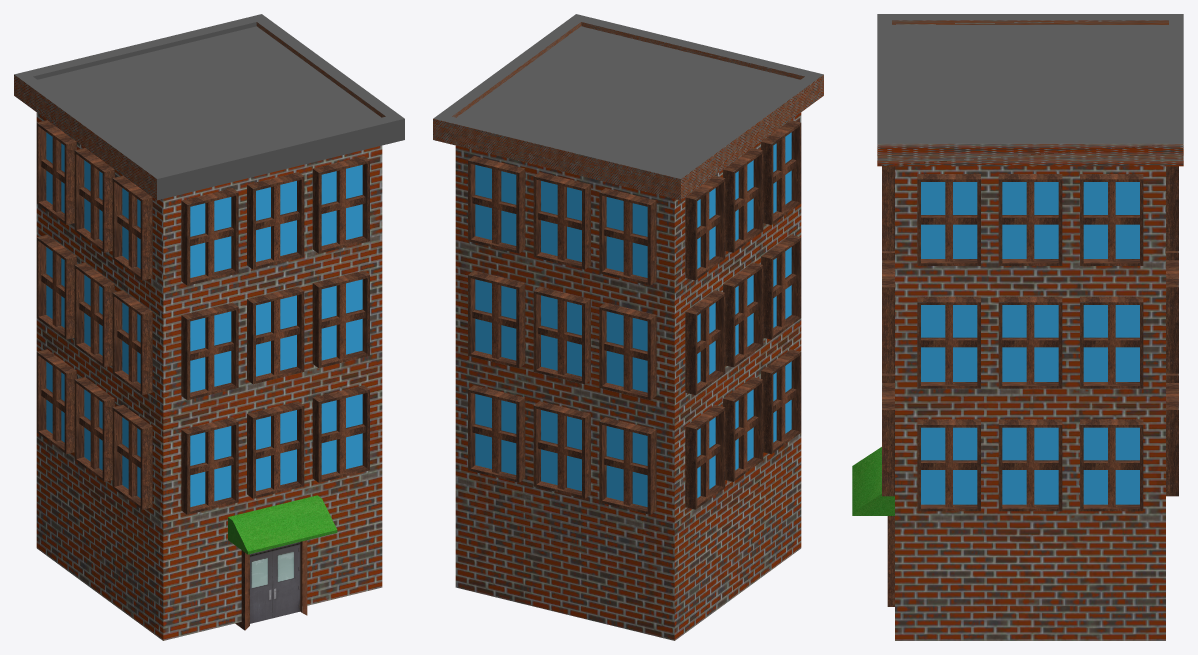
The model's file is building2.fbx.
The picture shows the model from 3 angles, left to right: view 1: azimuth 30°, elevation 25°; view 2: azimuth 150°, elevation 25°; view 3: azimuth 270°, elevation 25°; orthographic projection. The views are drawn at different scales.
Visible parts, largest first — view 1: Building; view 2: Building; view 3: Building.
Part boxes in pixels (x1,y1,x2,y2): Building: (14, 14, 404, 640); Building: (433, 14, 823, 640); Building: (852, 14, 1183, 640).
Bounding box in the file's own units: 11.32 × 20.86 × 12.24.
